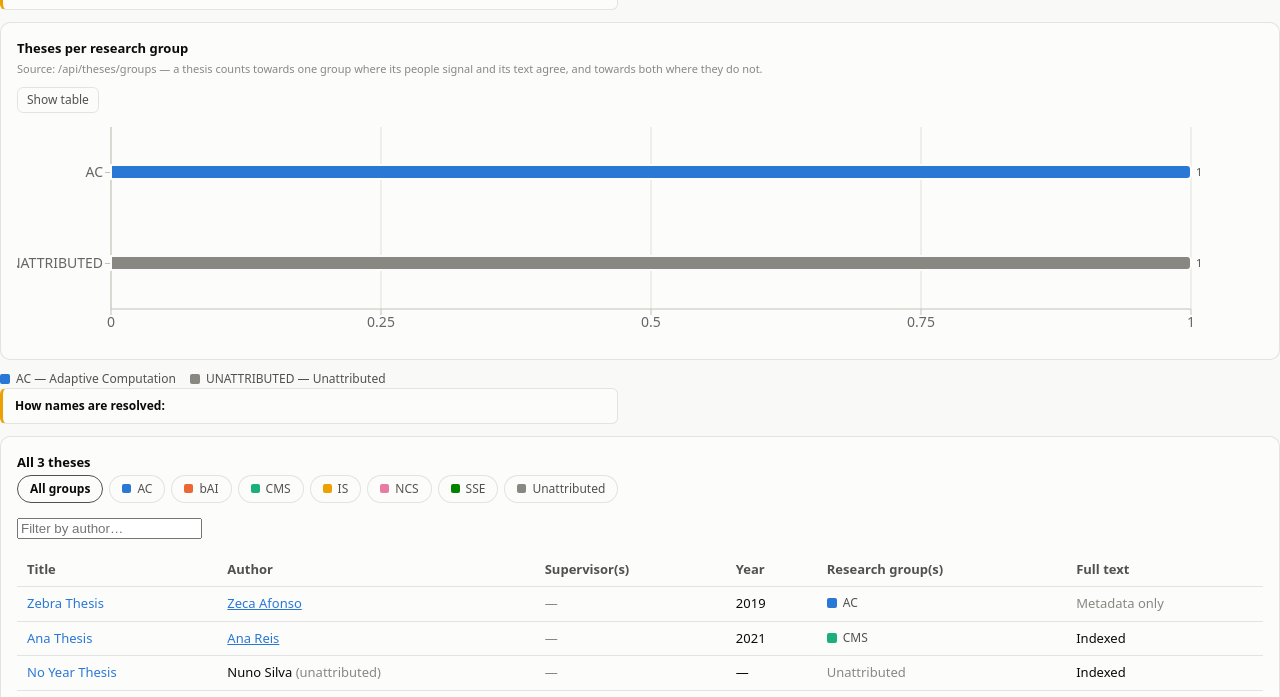
Scenario: Theses table — group filter › filters to the pressed group pill, updates the count, and Clear filters resets it
(page scrolled)
Expected: the text "All 3 theses" is shown, [17, 453, 91, 471]
Click the button "CMS": (271, 489) [238, 475, 304, 503]
(page scrolled)
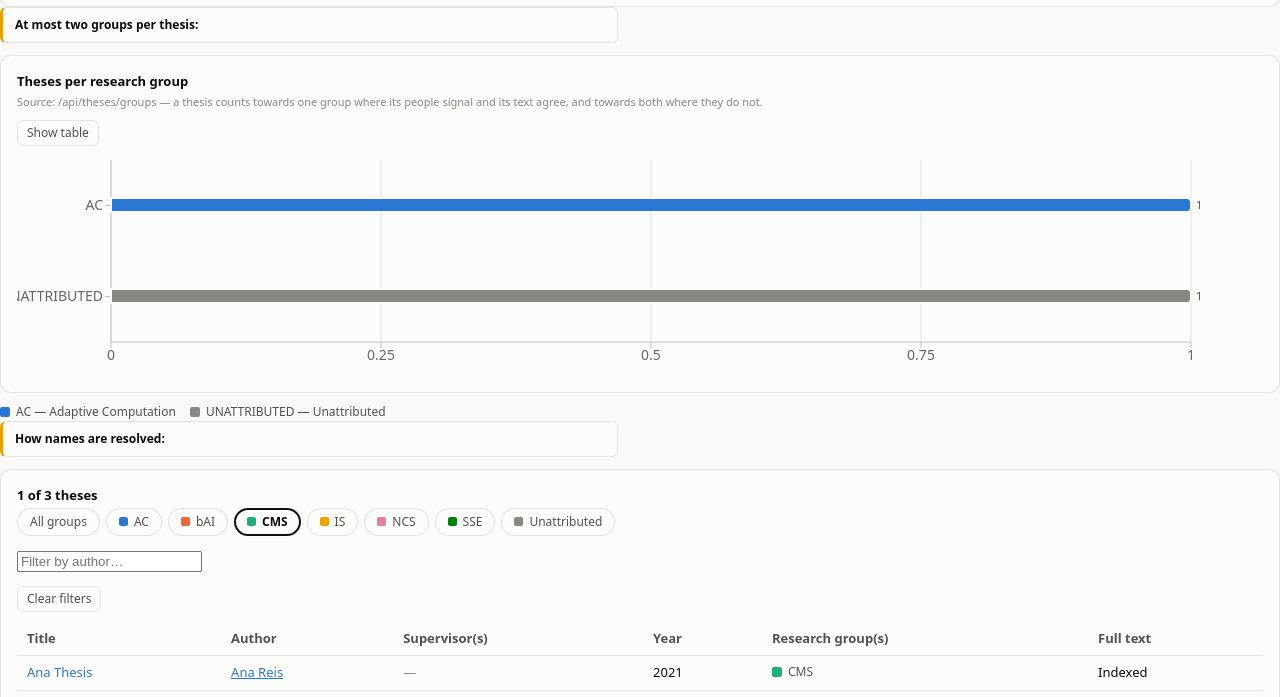
Now the text "1 of 3 theses" is shown, box [17, 486, 98, 504]
Click the button "Clear filters": (59, 599) [17, 586, 101, 612]
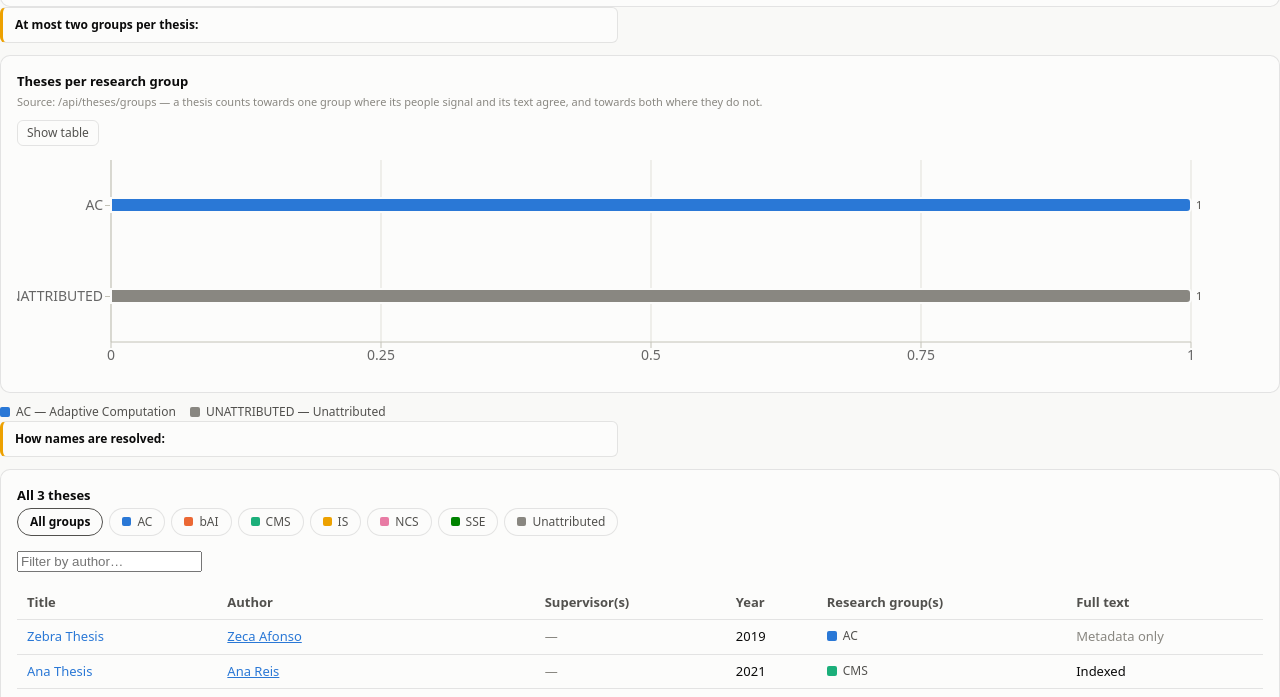
Now the text "All 3 theses" is shown, box [17, 486, 91, 504]
